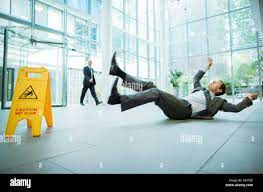wet caution sign: (0, 51, 62, 145)
